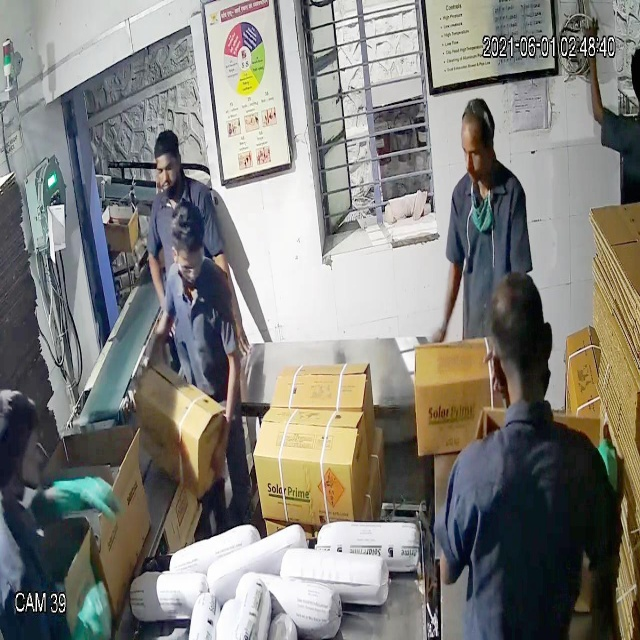Gafas: (171, 251, 211, 282)
Sin_gafas: (456, 137, 499, 169), (150, 153, 185, 185)
